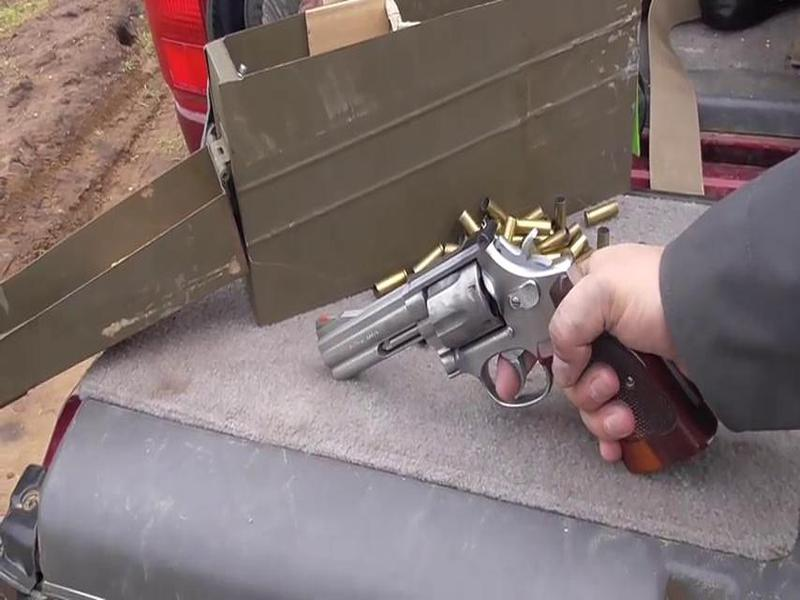Revolver: (305, 211, 638, 472)
